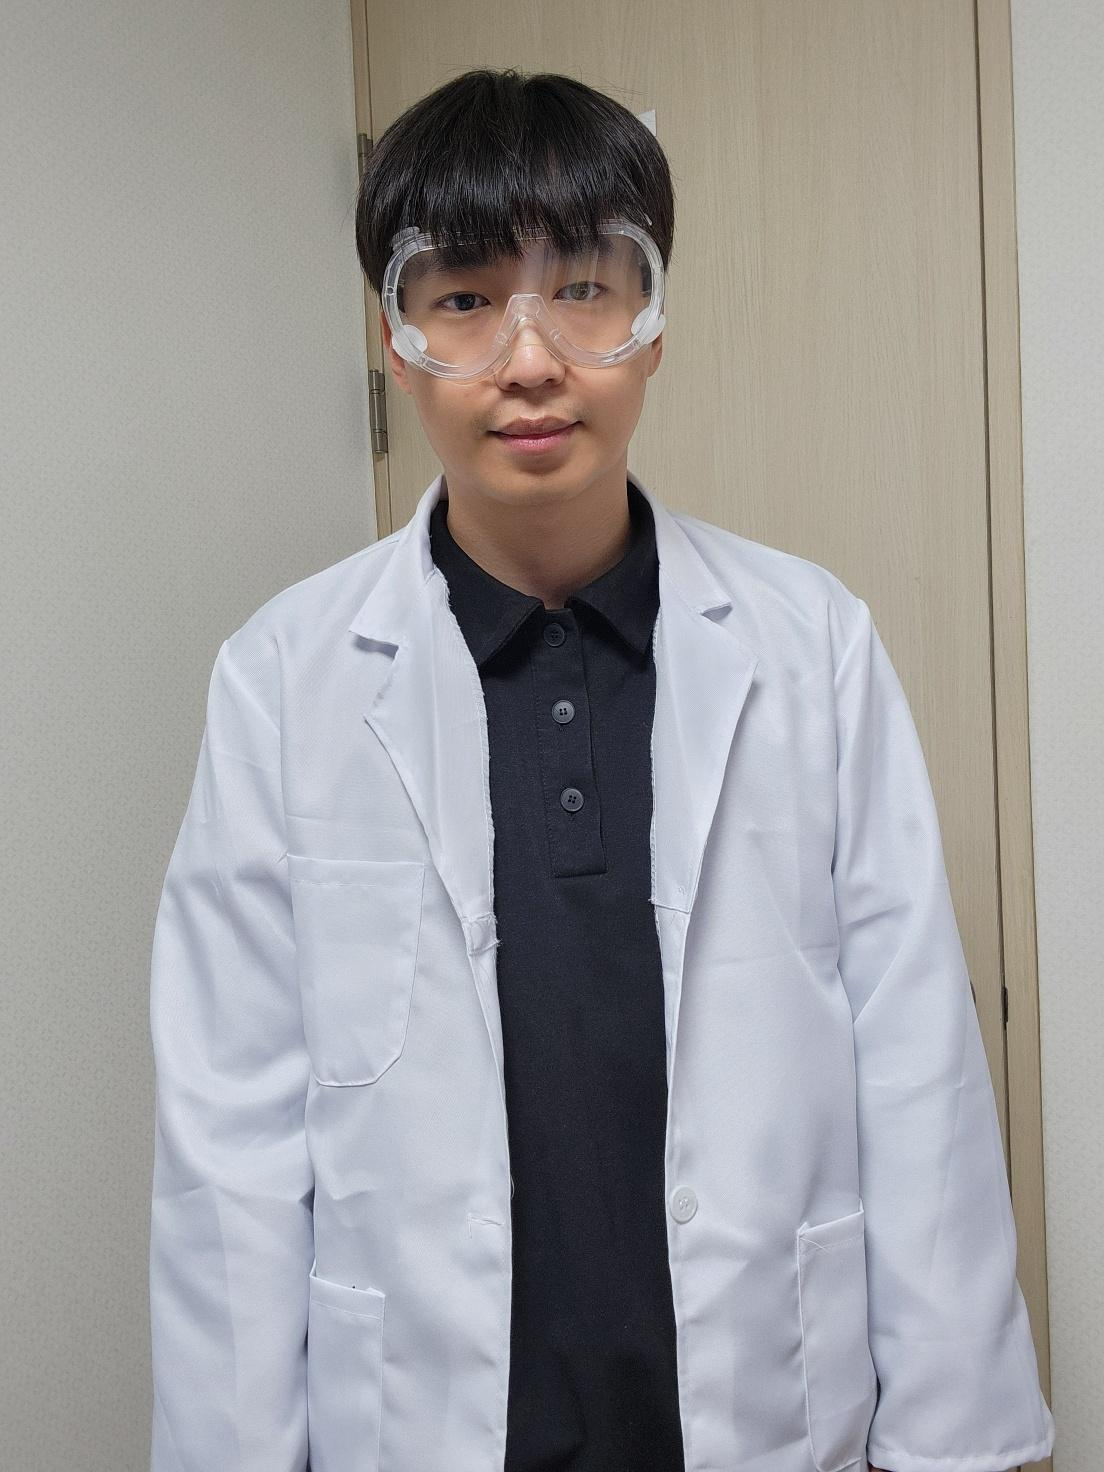lab_coat: (152, 465, 1052, 1471)
